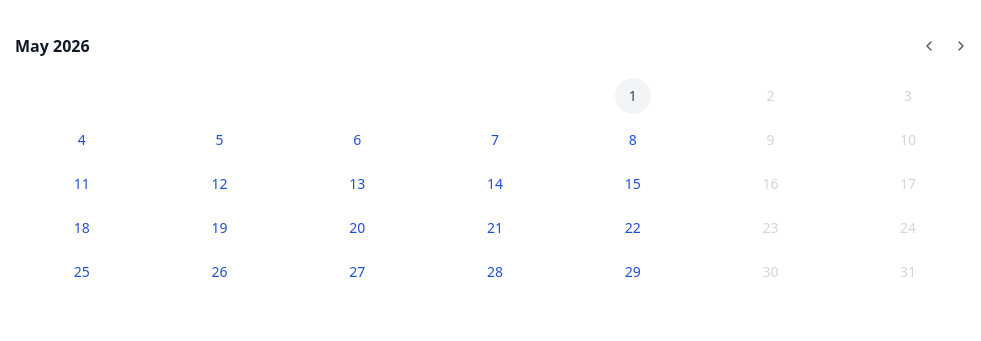
TimePicker › day selection and time slots › shows 'No slots available' when busy slots cover the entire day
This screenshot has width=981, height=341.
Click the button "1" at (633, 96), box 615,78 -> 651,114
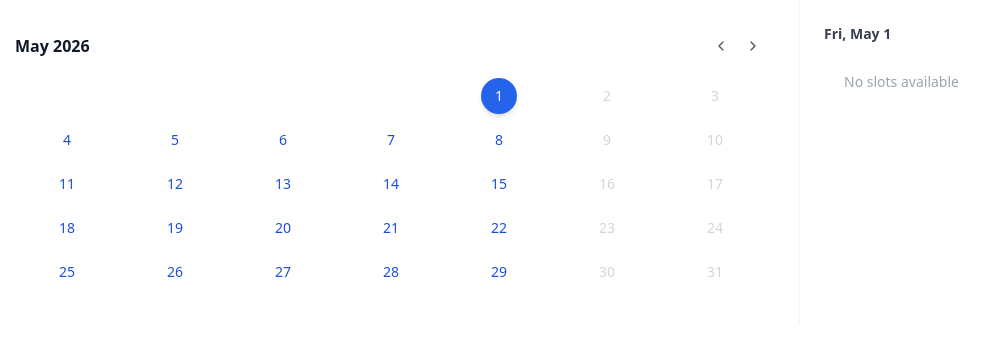
Now the text "No slots available" is shown, box 844,72 -> 959,91
